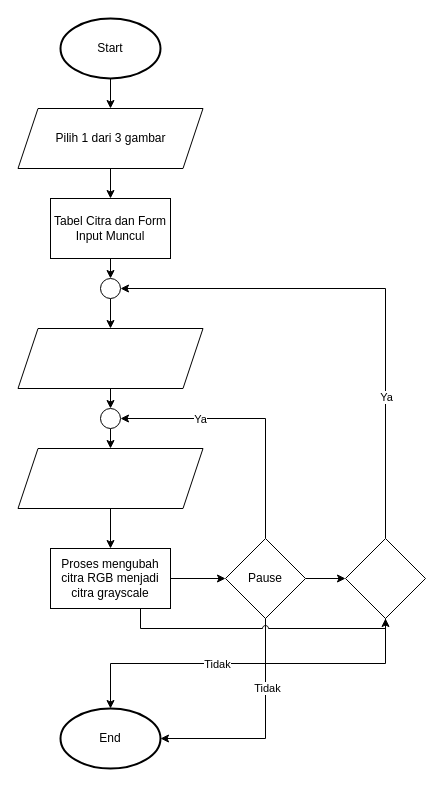
This 443x786 diagram has some shape labels left out. The shapes that lost their labels are listed below. From the top down, each one's centre as x and y in pixels, then its label:
point (110, 358): Ubah nilai citra warna
point (110, 478): Tekan Tombol Play
point (385, 578): Stop
